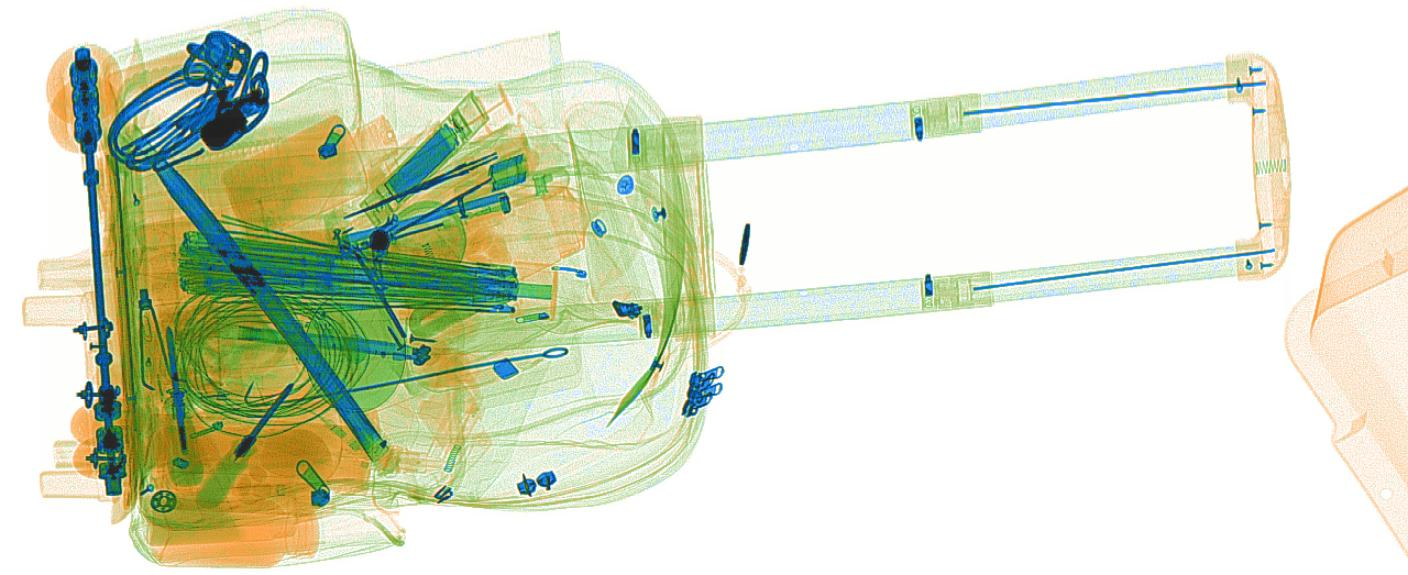battery: (383, 120, 460, 201)
plasticBottleWithaNozzle: (160, 402, 467, 496)
scissors: (340, 122, 538, 219)
